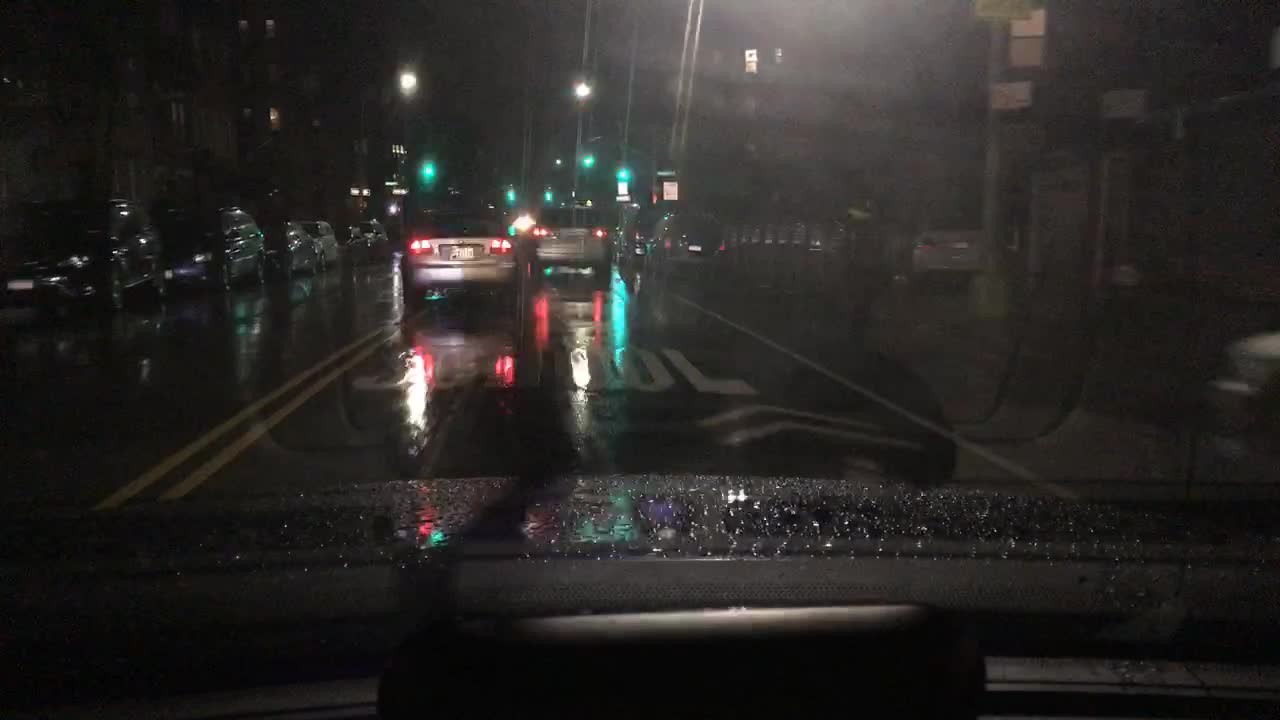car: (1, 198, 163, 317), (398, 204, 521, 305), (162, 205, 269, 293), (868, 207, 980, 283), (524, 202, 616, 282), (644, 211, 727, 288), (265, 219, 318, 282), (613, 211, 652, 282), (303, 218, 346, 267), (334, 224, 368, 264), (361, 219, 392, 257), (1218, 125, 1221, 141)
traffic light: (417, 159, 435, 184), (579, 153, 595, 171), (504, 184, 516, 205), (543, 188, 555, 208), (613, 165, 630, 179), (616, 196, 635, 202)
traffic sign: (994, 79, 1032, 110), (1006, 6, 1046, 33), (1012, 35, 1045, 67), (664, 178, 679, 202), (391, 187, 411, 199), (384, 179, 401, 190), (616, 182, 627, 196)
